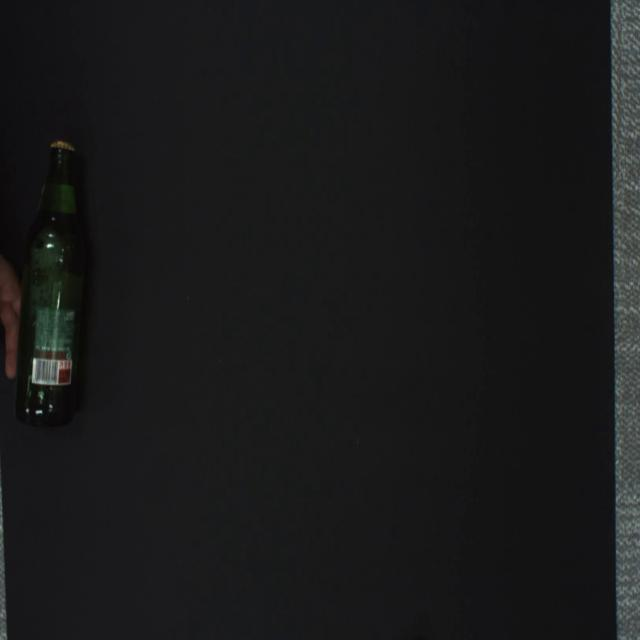beer-bottle: (15, 139, 88, 428)
